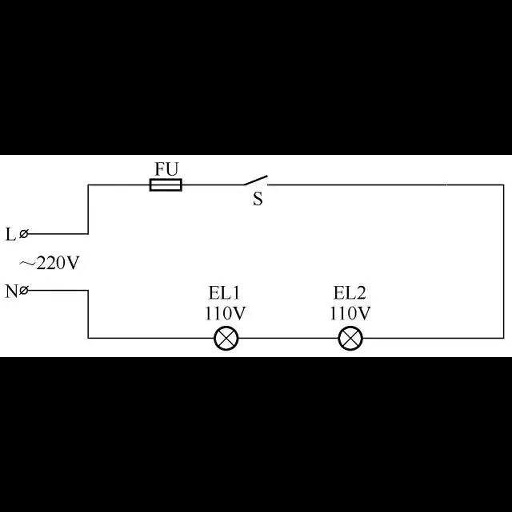fuse: (142, 176, 189, 196)
light: (211, 323, 241, 353), (337, 324, 363, 352)
